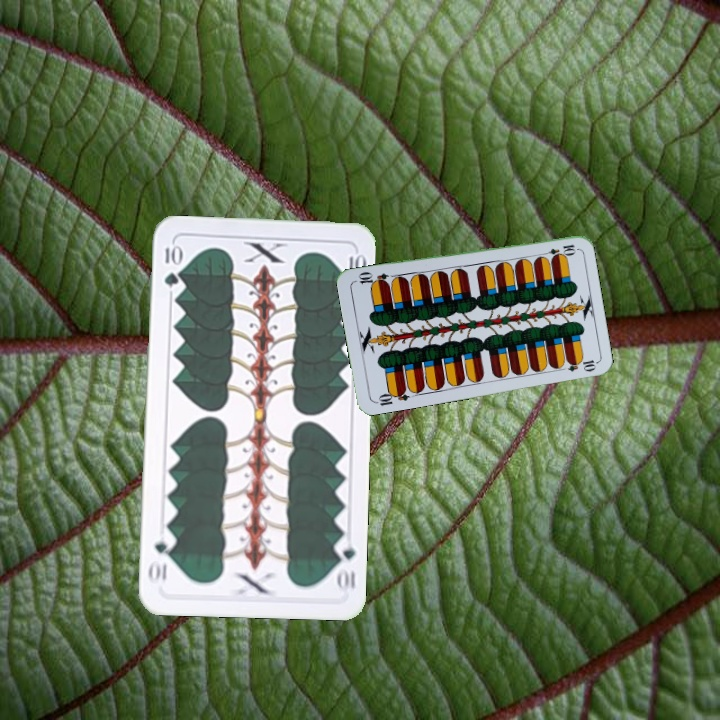E10: (371, 385, 412, 408), (537, 240, 578, 259)
G10: (331, 535, 358, 594), (160, 241, 181, 290)
